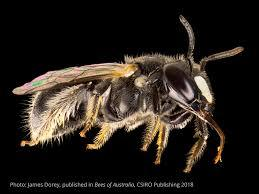Braunsapis: (17, 13, 249, 171)
